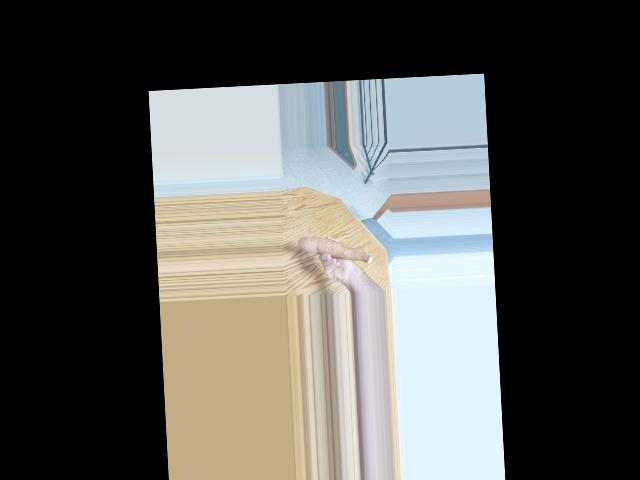sweet_potato: (300, 229, 372, 273)
